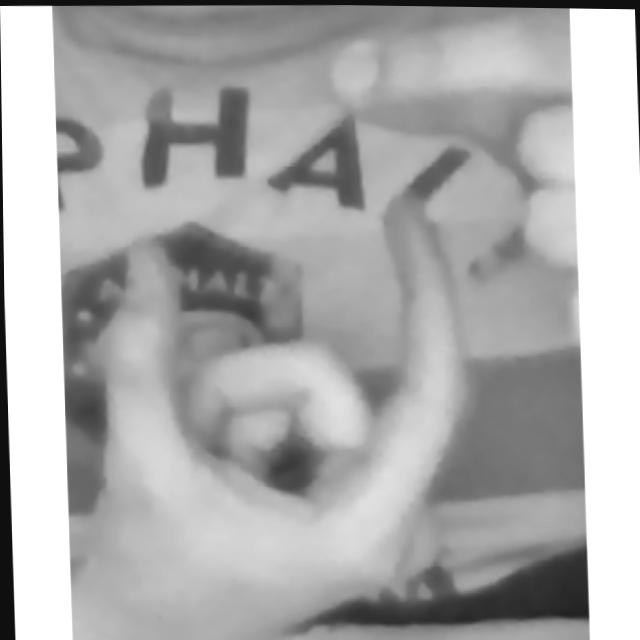U--: (82, 2, 587, 640)
